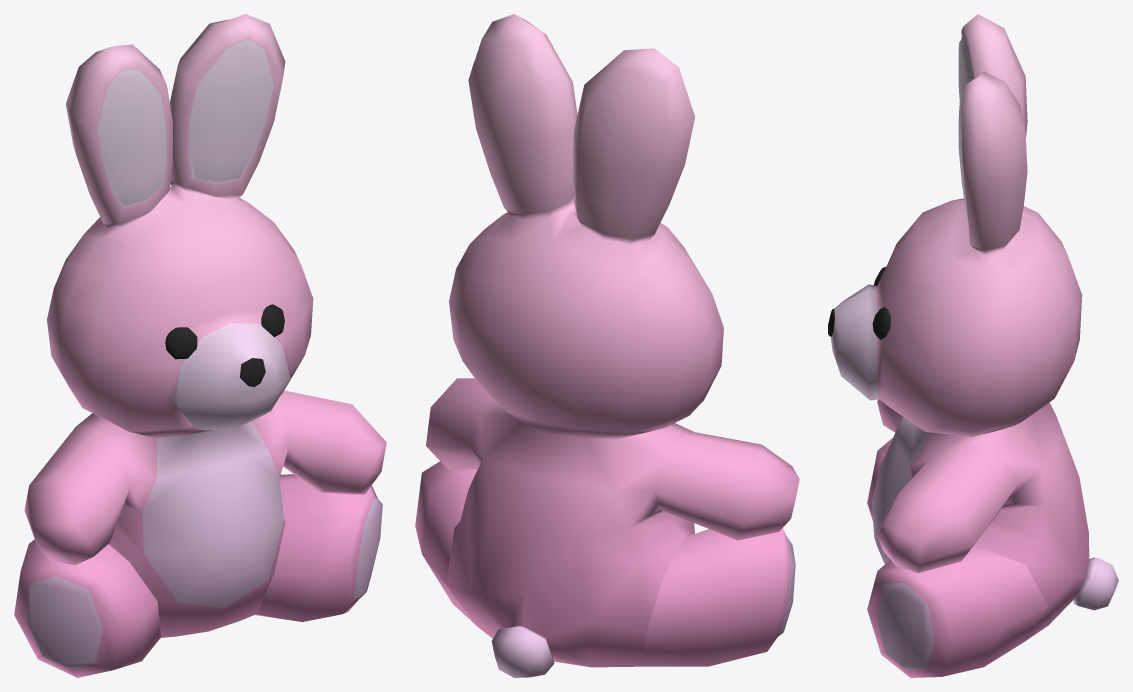
The model's file is Rabbit_01.fbx.
3 views of the same model, side by side, from view 1: azimuth 30°, elevation 25°; view 2: azimuth 150°, elevation 25°; view 3: azimuth 270°, elevation 25° (orthographic). The views are drawn at different scales.
Visible parts, largest first — view 1: Rabbit_01; view 2: Rabbit_01; view 3: Rabbit_01.
Boxes of the visible parts, left/top/right/bottom form: Rabbit_01: left=14, top=14, right=386, bottom=677; Rabbit_01: left=415, top=14, right=799, bottom=677; Rabbit_01: left=828, top=14, right=1118, bottom=677.
Size of the model in its own units: 30.99 by 22.9 by 50.16.
